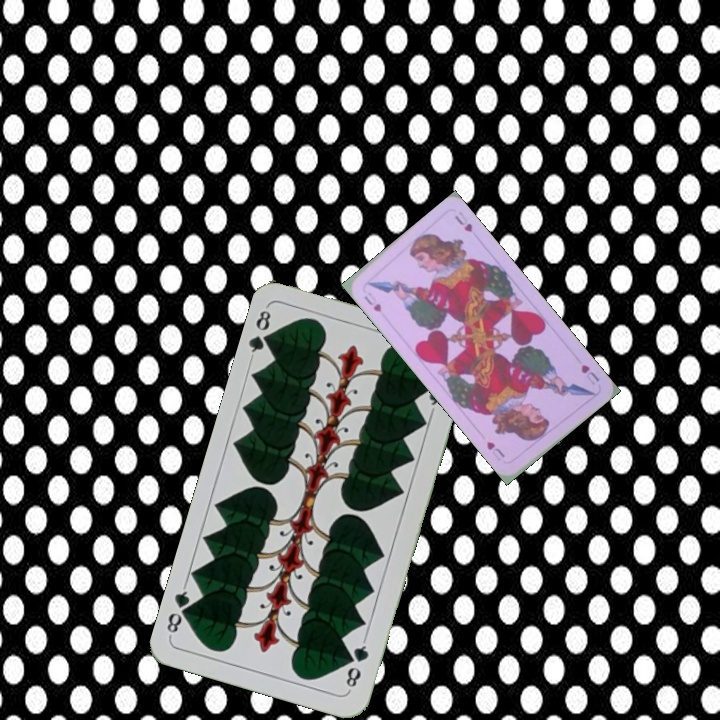G8: (245, 303, 278, 361), (342, 635, 372, 693)
HU: (577, 360, 602, 388), (360, 288, 384, 315)
